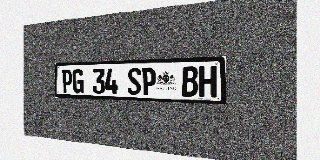3: (93, 68, 105, 94)
4: (105, 68, 118, 94)
B: (182, 66, 198, 97)
G: (73, 69, 84, 93)
H: (199, 66, 217, 97)
P: (142, 67, 156, 96), (62, 69, 72, 93)
S: (127, 67, 141, 95)
